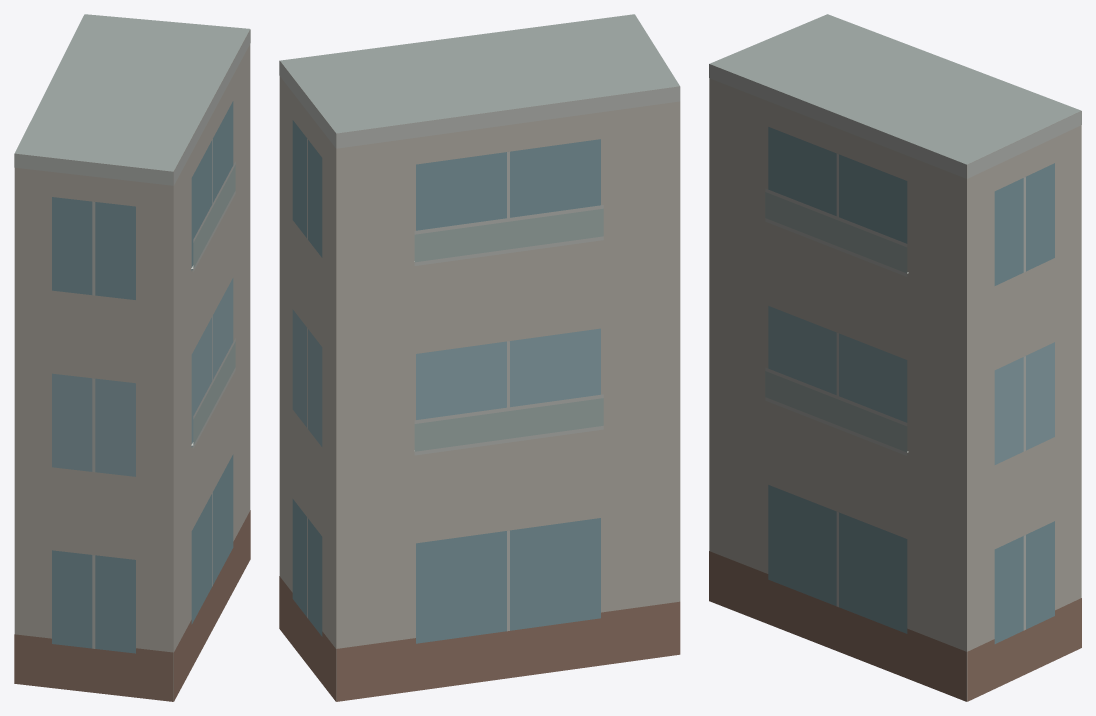
The model's file is survey-upis-32477106.glb.
The picture shows the model from 3 angles, left to right: view 1: azimuth 30°, elevation 25°; view 2: azimuth 150°, elevation 25°; view 3: azimuth 270°, elevation 25°; orthographic projection. The views are drawn at different scales.
Parts seen in each view (by area): view 1: survey-upis-32477106.tmp; view 2: survey-upis-32477106.tmp; view 3: survey-upis-32477106.tmp.
Boxes of the visible parts, x1,y1,x2,y2 form: survey-upis-32477106.tmp: [14, 14, 250, 701]; survey-upis-32477106.tmp: [279, 14, 680, 701]; survey-upis-32477106.tmp: [709, 14, 1081, 701].
Size of the model in its own units: 5.51 by 9.15 by 5.76.
